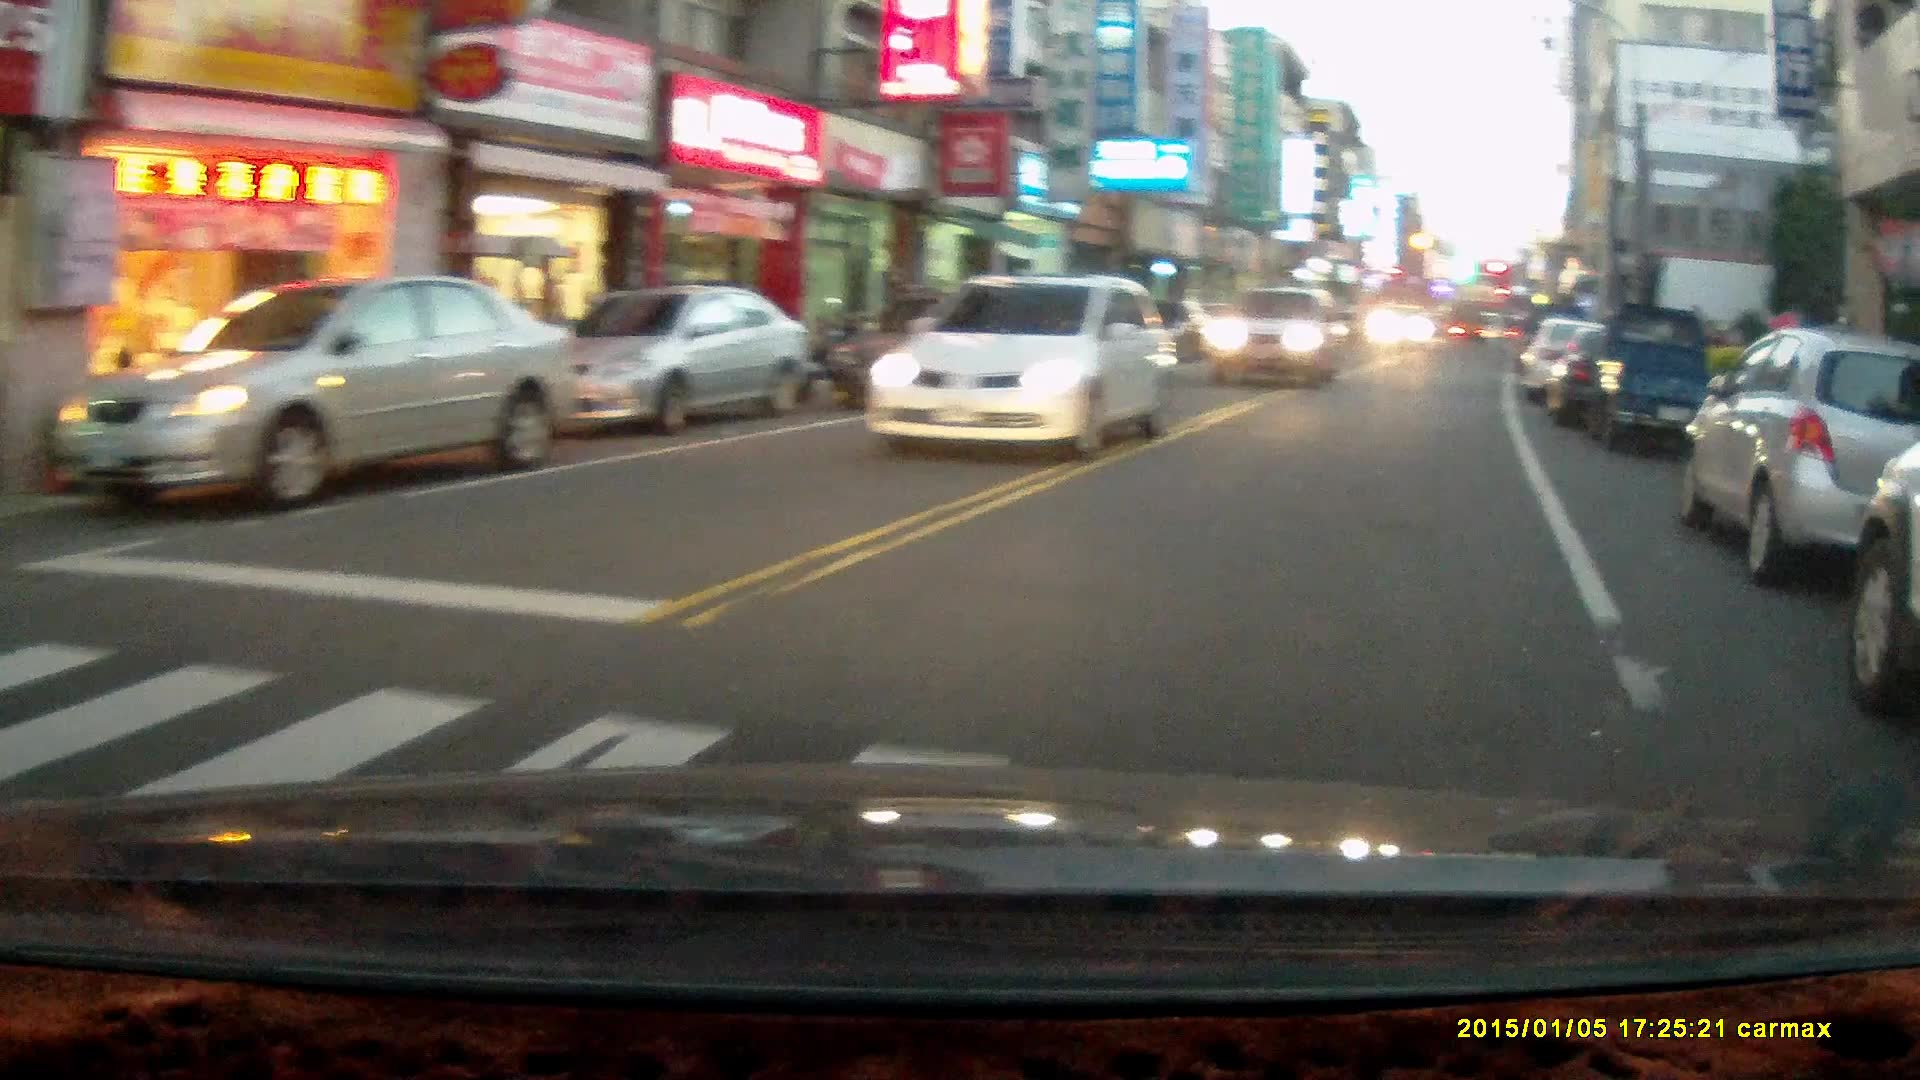vehicle: (33, 276, 564, 512), (1671, 327, 1920, 589), (862, 272, 1185, 462), (517, 282, 814, 433), (1571, 302, 1735, 455), (1211, 284, 1358, 386), (1515, 316, 1654, 411), (1369, 303, 1443, 352)
